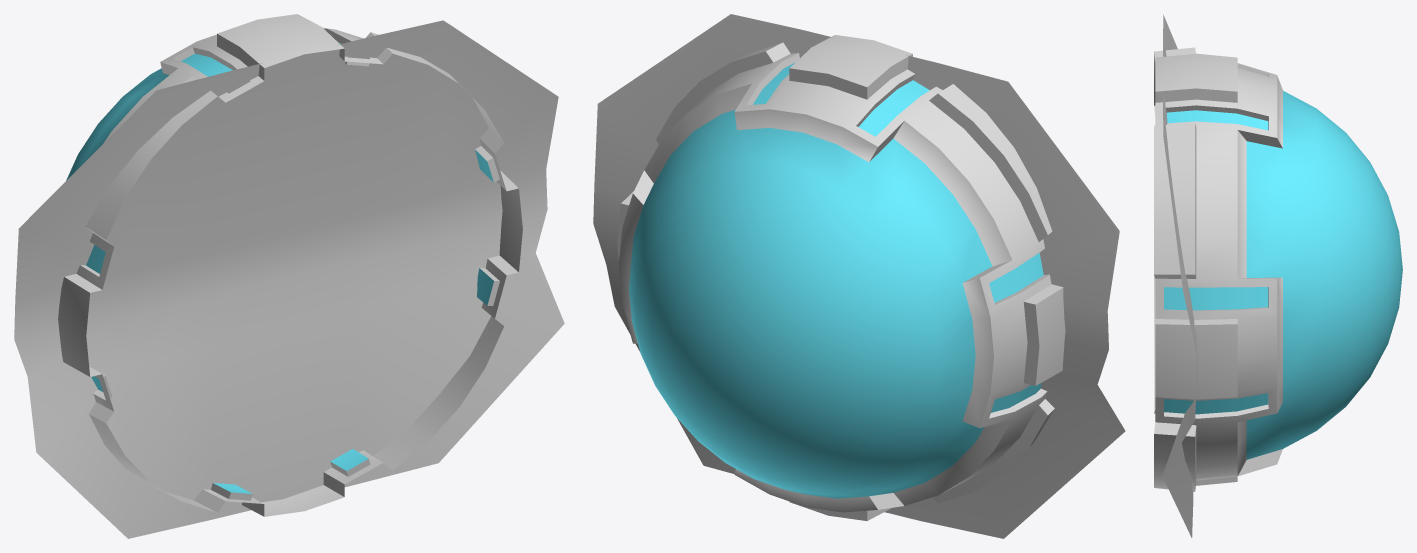
Rendered from Mod_Backplate_Snail3.fbx.
3 renders of one model, left to right at view 1: azimuth 30°, elevation 25°; view 2: azimuth 150°, elevation 25°; view 3: azimuth 270°, elevation 25°, orthographic. The views are drawn at different scales.
Visible parts, largest first — view 1: Mod_BackPlate_Snail3; view 2: Mod_BackPlate_Snail3; view 3: Mod_BackPlate_Snail3.
Boxes of the visible parts, x1,y1,x2,y2 form: Mod_BackPlate_Snail3: (14,14,564,538); Mod_BackPlate_Snail3: (593,14,1125,538); Mod_BackPlate_Snail3: (1154,14,1402,537).
Size of the model in its own units: 326 by 271 by 150.
